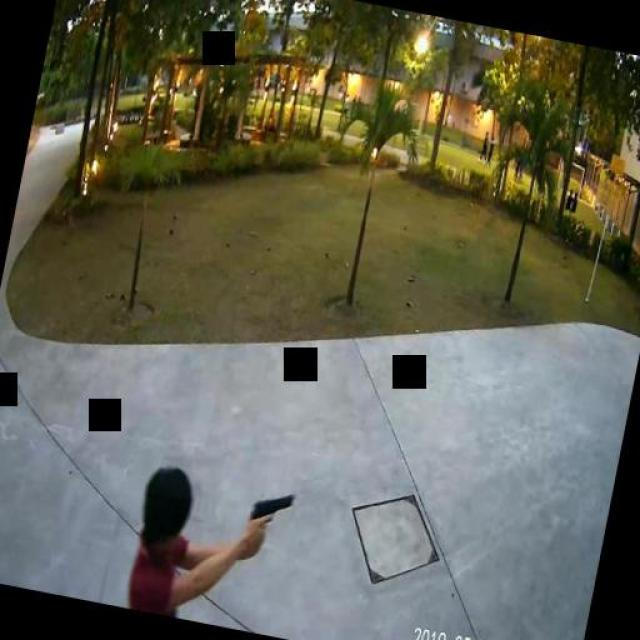gun: (244, 484, 295, 548)
